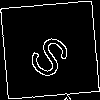S: (25, 25, 81, 82)
